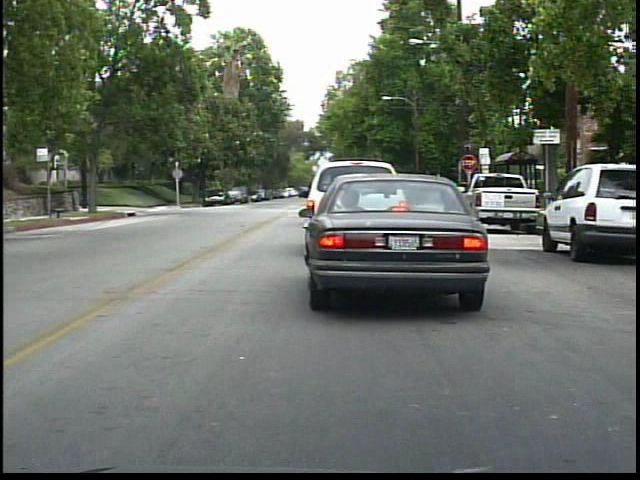person: (201, 180, 216, 205)
